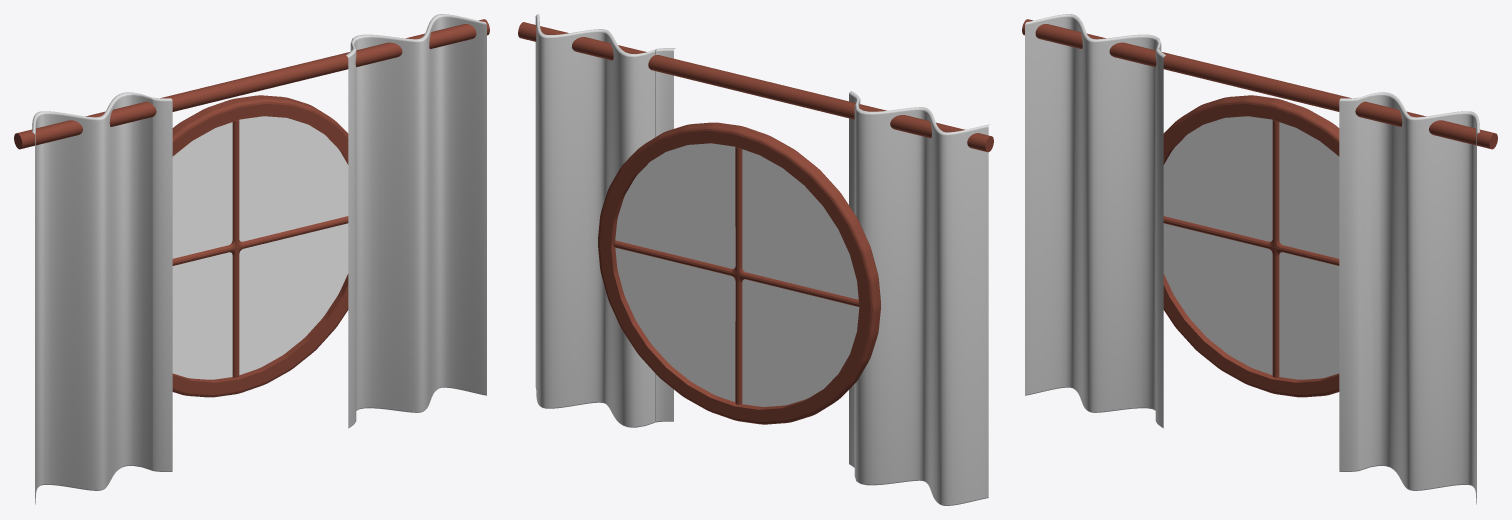
File: fenetre_ouverte.glb
The picture shows the model from 3 angles, left to right: view 1: azimuth 30°, elevation 25°; view 2: azimuth 150°, elevation 25°; view 3: azimuth 330°, elevation 25°; orthographic projection.
Parts seen in each view (by area): view 1: BézierCurve.003, Cylinder.008, Cylinder.007, Cylinder.009; view 2: BézierCurve.003, Cylinder.008, Cylinder.007, Cylinder.009; view 3: BézierCurve.003, Cylinder.008, Cylinder.007, Cylinder.009.
Boxes of the visible parts, x1=… form: BézierCurve.003: x1=32, y1=14, x2=486, y2=504; Cylinder.008: x1=172, y1=116, x2=348, y2=379; Cylinder.007: x1=172, y1=95, x2=348, y2=397; Cylinder.009: x1=14, y1=19, x2=489, y2=149; BézierCurve.003: x1=535, y1=14, x2=989, y2=505; Cylinder.008: x1=615, y1=143, x2=859, y2=406; Cylinder.007: x1=598, y1=122, x2=880, y2=424; Cylinder.009: x1=518, y1=22, x2=993, y2=152; BézierCurve.003: x1=1025, y1=14, x2=1479, y2=504; Cylinder.008: x1=1163, y1=116, x2=1339, y2=379; Cylinder.007: x1=1163, y1=95, x2=1339, y2=397; Cylinder.009: x1=1022, y1=19, x2=1497, y2=149.
Bounding box in the file's own units: 0.7777 × 0.5929 × 0.0881.
